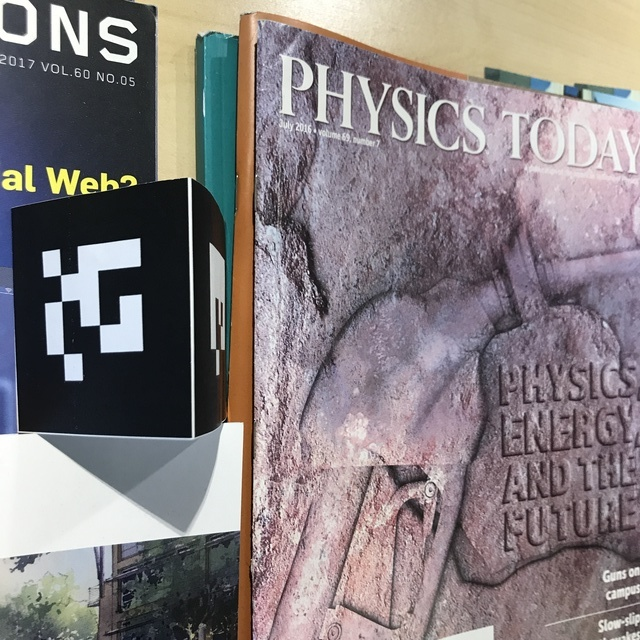ARTag: (11, 177, 227, 440)
